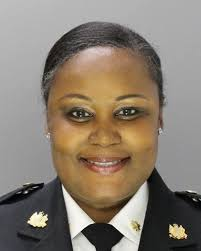black_female: (37, 21, 180, 212)
